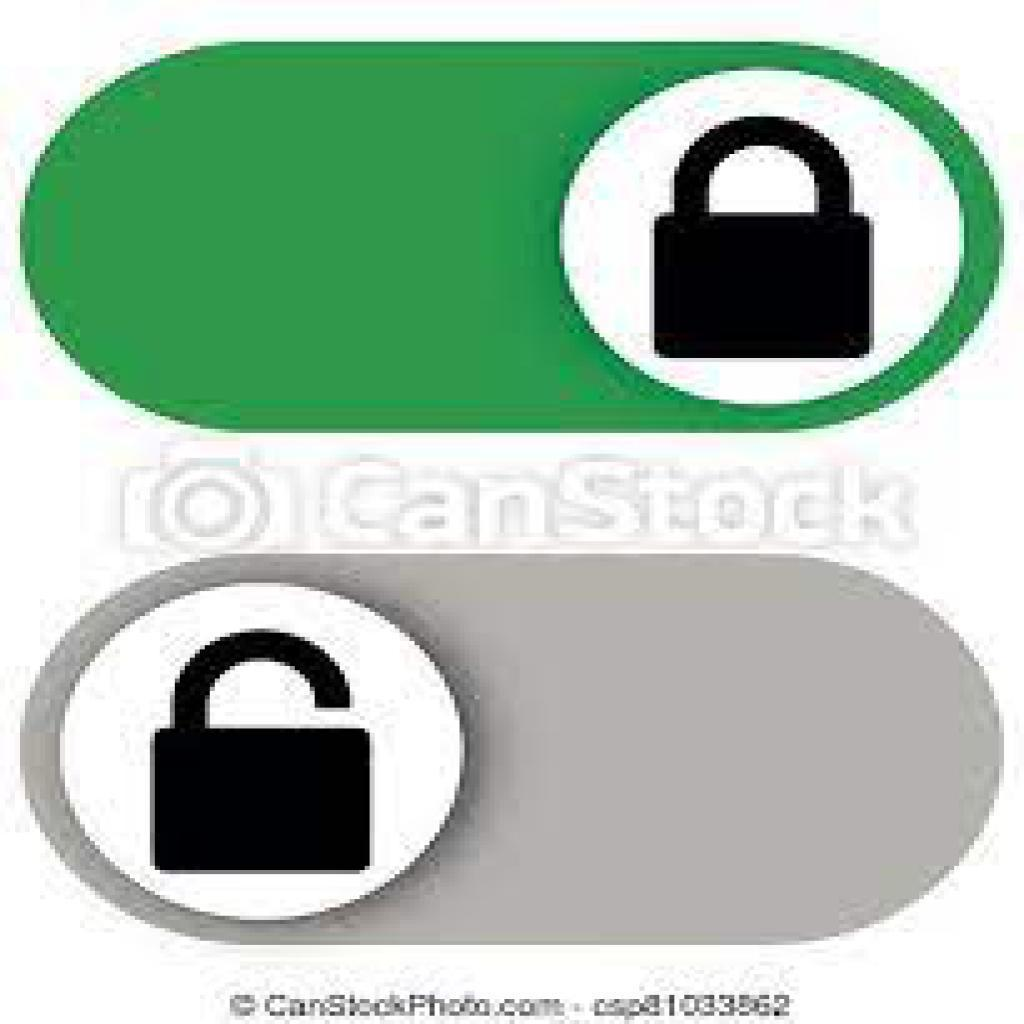switch: (21, 553, 1005, 948), (21, 43, 1006, 434)
